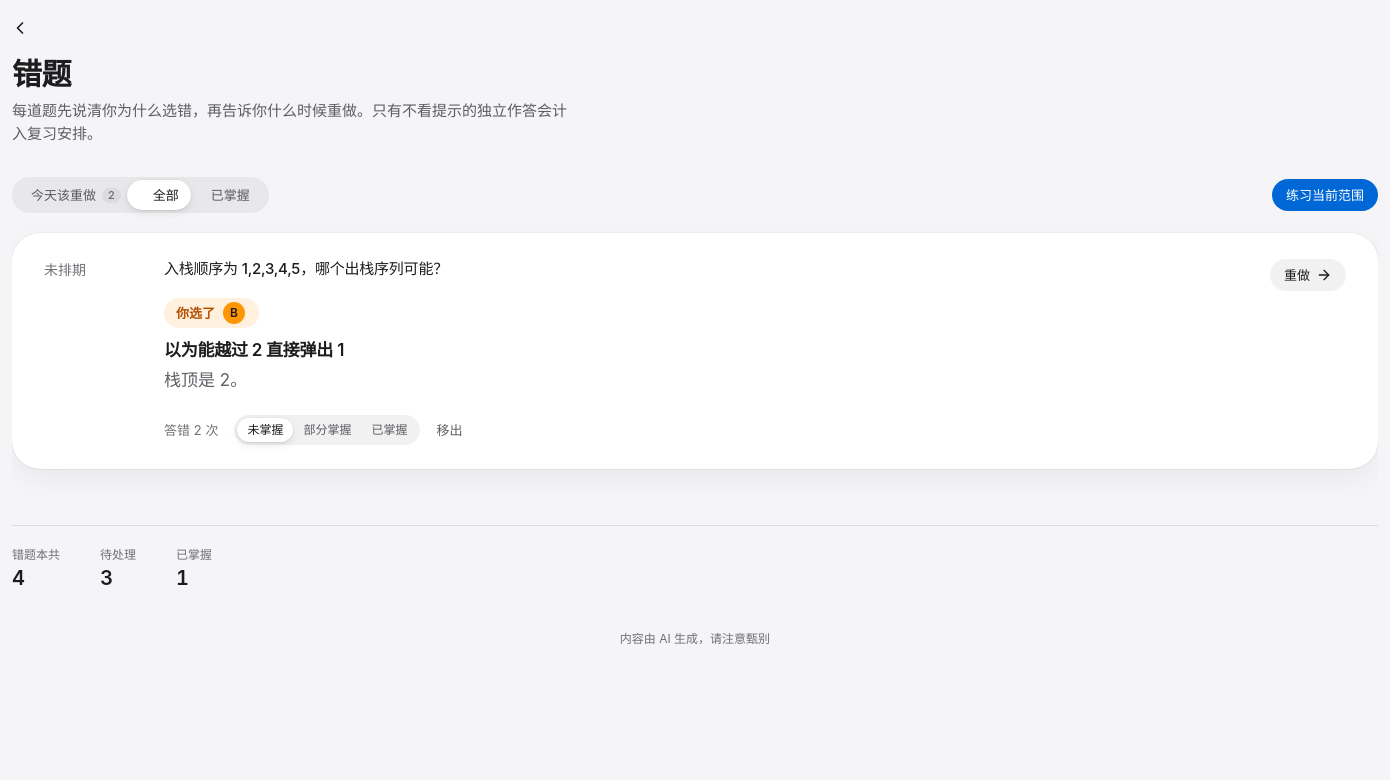
it: WrongQuestionsView › filters to what is due today, counts it, and says so when nothing is due
Click the radio button labelled "今天该重做 2": (76, 195) [15, 180, 137, 210]
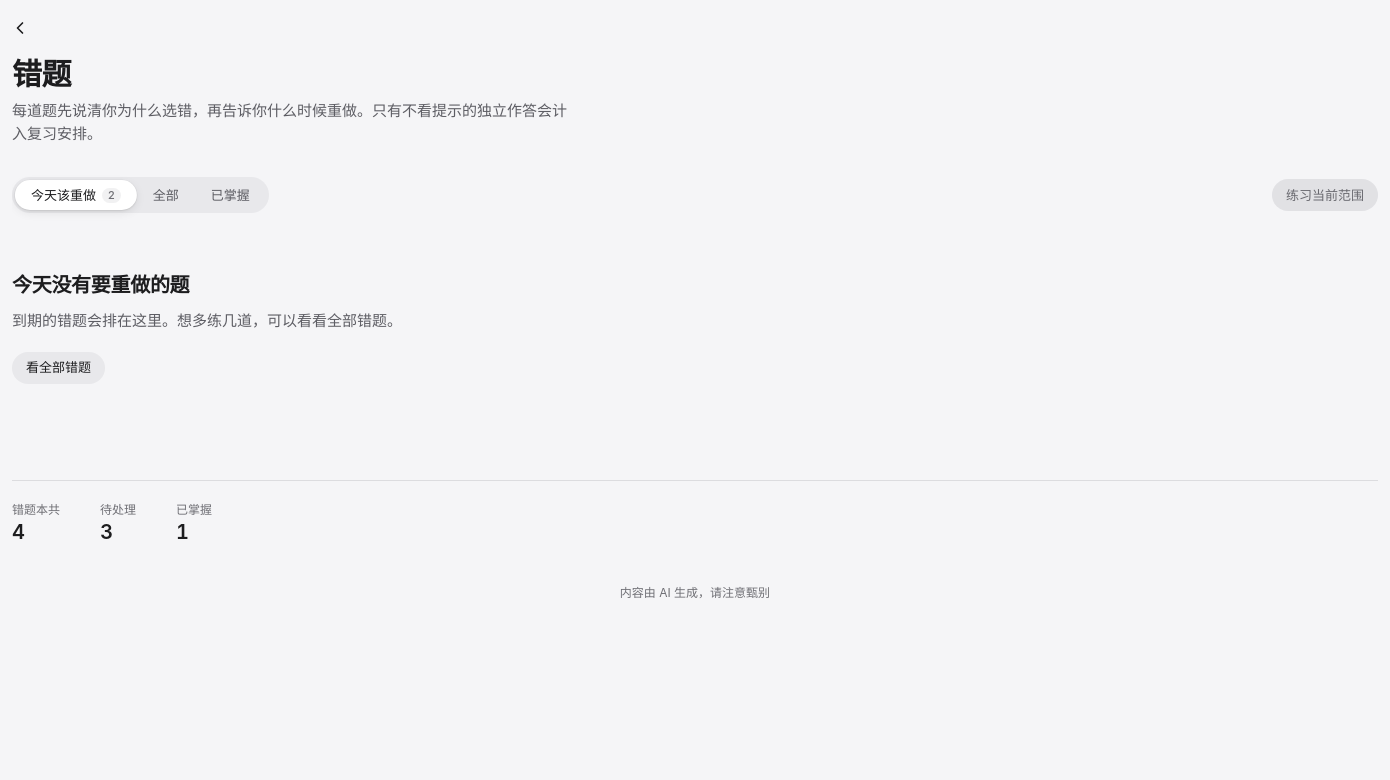
Now the text "今天没有要重做的题" is shown, box [12, 273, 189, 298]
